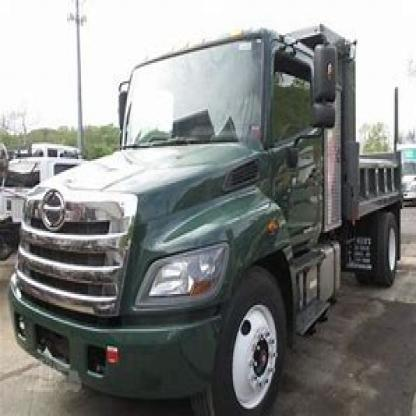dump_truck: (24, 20, 412, 390)
